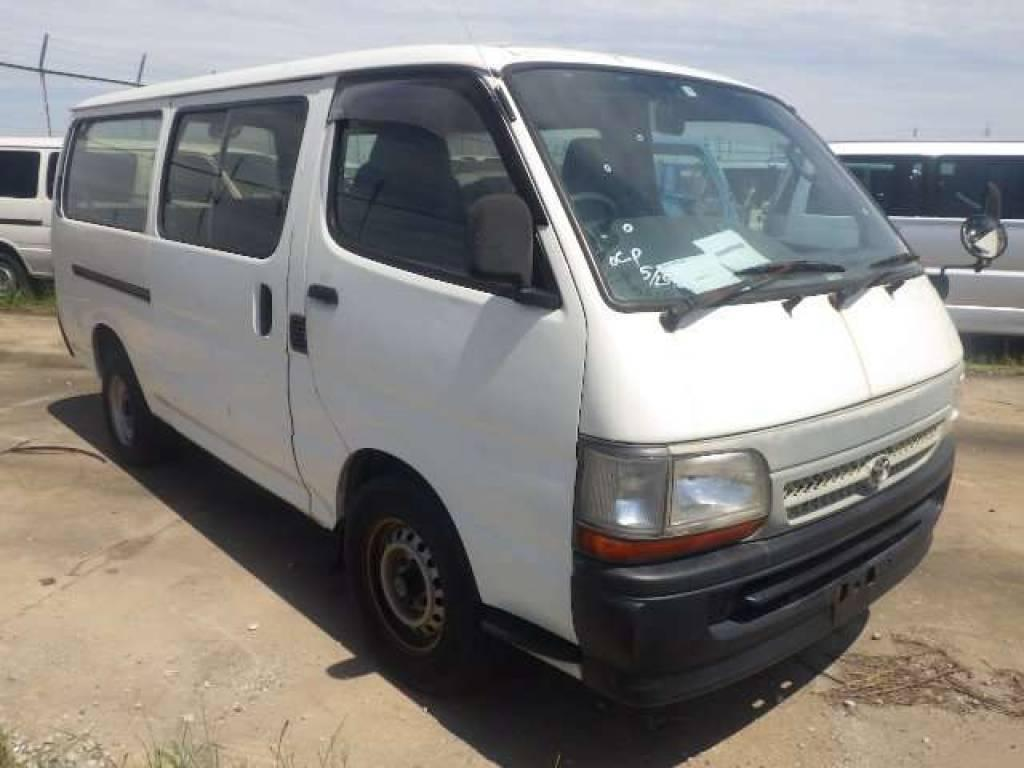van: (47, 44, 964, 714)
